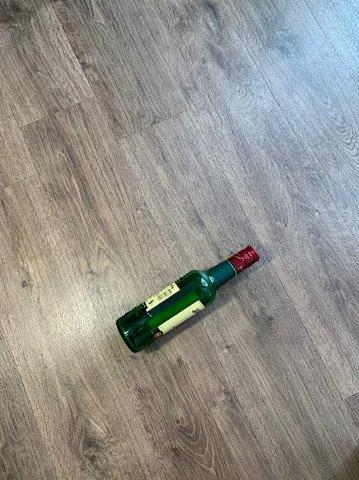botolkaca: (118, 247, 260, 351)
